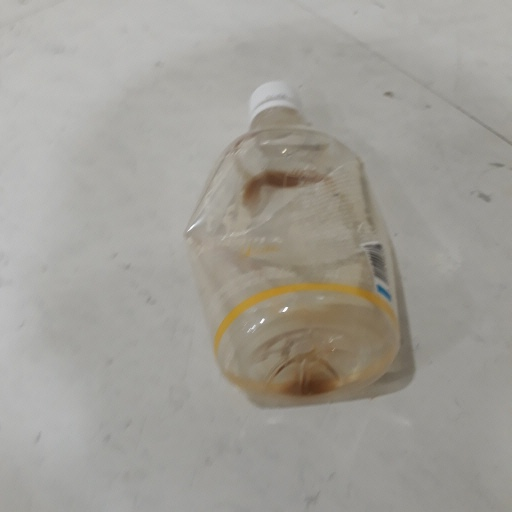Plastic_0: (189, 78, 402, 401)
